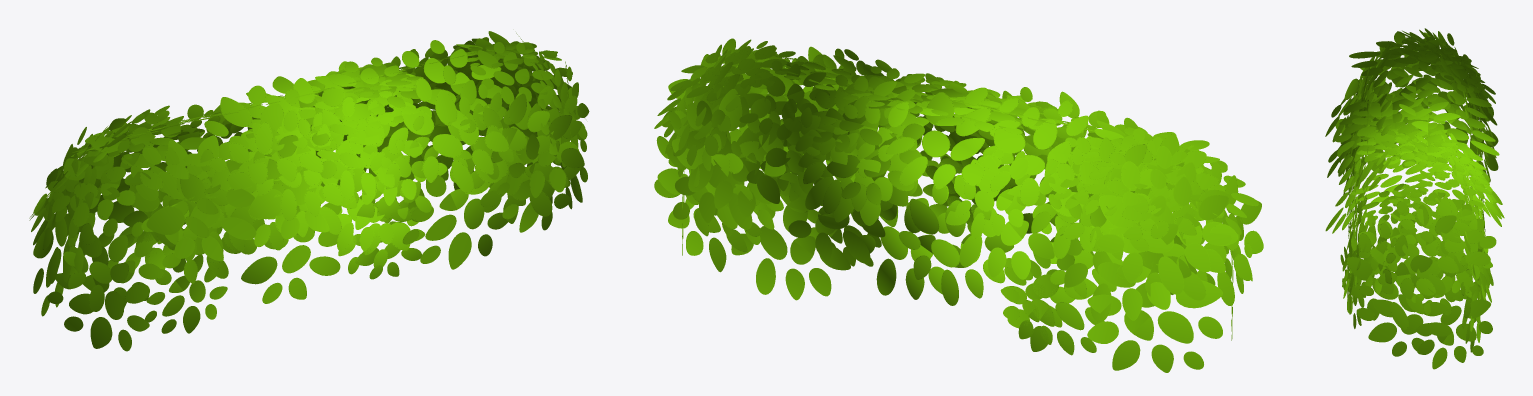
Rendered from bush_small.fbx.
3 renders of one model, left to right at view 1: azimuth 30°, elevation 25°; view 2: azimuth 150°, elevation 25°; view 3: azimuth 270°, elevation 25°, orthographic. The views are drawn at different scales.
Parts seen in each view (by area): view 1: bush_small; view 2: bush_small; view 3: bush_small.
Part boxes in pixels (<box>): bush_small: <box>29,31,589,351</box>; bush_small: <box>654,38,1263,372</box>; bush_small: <box>1325,28,1504,369</box>.
Size of the model in its own units: 1.47 by 0.6 by 0.558.
1 material, 1 textured.
